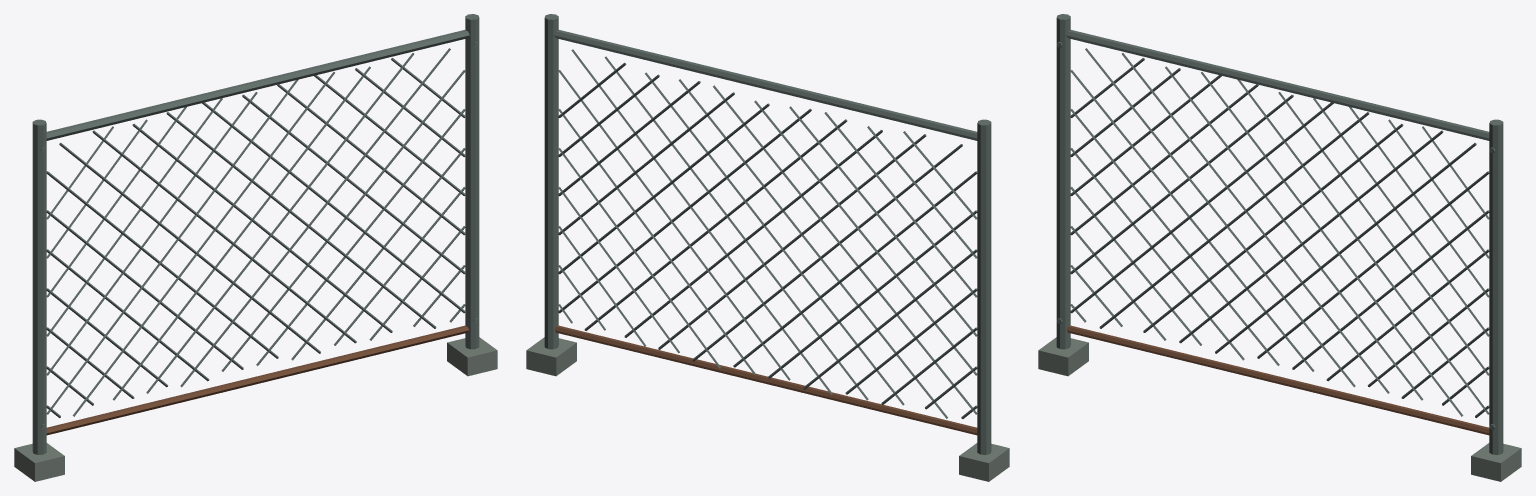
File: v115-yard-fence-panel.glb
3 renders of one model, left to right at view 1: azimuth 30°, elevation 25°; view 2: azimuth 150°, elevation 25°; view 3: azimuth 330°, elevation 25°, orthographic.
Visible parts, largest first — view 1: fence-panel; view 2: fence-panel; view 3: fence-panel.
Boxes of the visible parts, x1,y1,x2,y2 form: fence-panel: (14, 14, 497, 481); fence-panel: (526, 14, 1009, 481); fence-panel: (1038, 14, 1521, 481).
Bounding box in the file's own units: 3.1 × 2.23 × 0.24.
